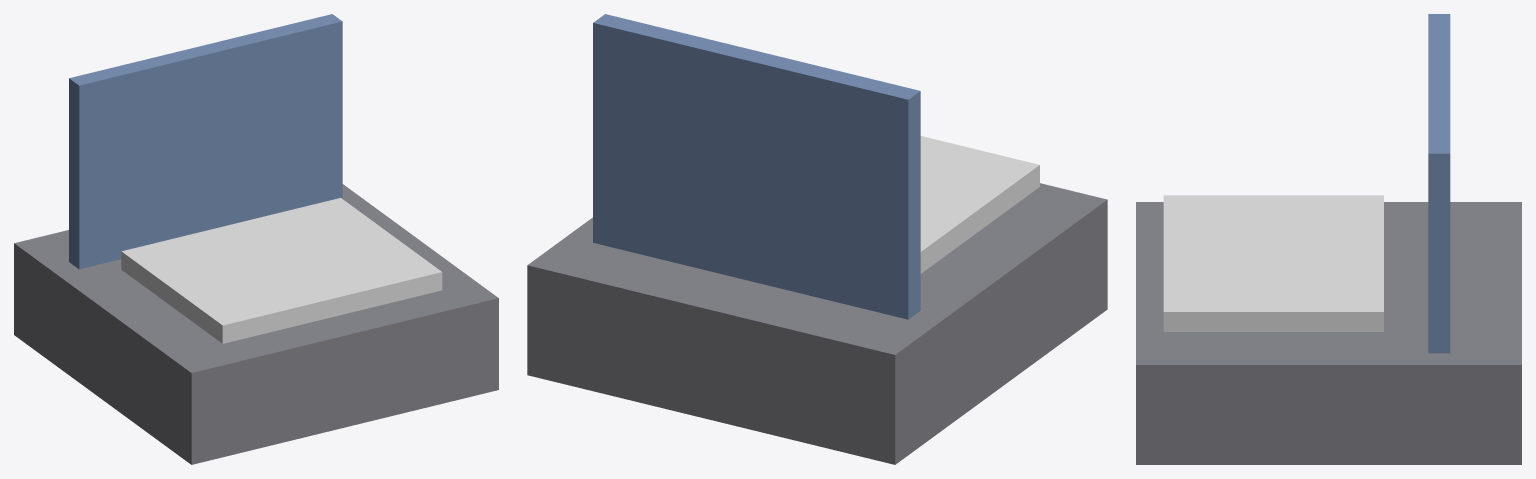
Rendered from cash_register.glb.
3 renders of one model, left to right at view 1: azimuth 30°, elevation 25°; view 2: azimuth 150°, elevation 25°; view 3: azimuth 270°, elevation 25°, orthographic. The views are drawn at different scales.
Visible parts, largest first — view 1: base, screen, keypad; view 2: base, screen, keypad; view 3: base, keypad, screen.
Boxes of the visible parts, left/top/right/bottom form: base: left=14, top=184, right=498, bottom=464; screen: left=69, top=14, right=342, bottom=269; keypad: left=121, top=198, right=442, bottom=343; base: left=527, top=183, right=1107, bottom=464; screen: left=593, top=14, right=920, bottom=319; keypad: left=920, top=136, right=1039, bottom=273; base: left=1136, top=202, right=1521, bottom=464; keypad: left=1163, top=195, right=1383, bottom=331; screen: left=1428, top=14, right=1450, bottom=353.
Size of the model in its own units: 0.35 by 0.3 by 0.35.
